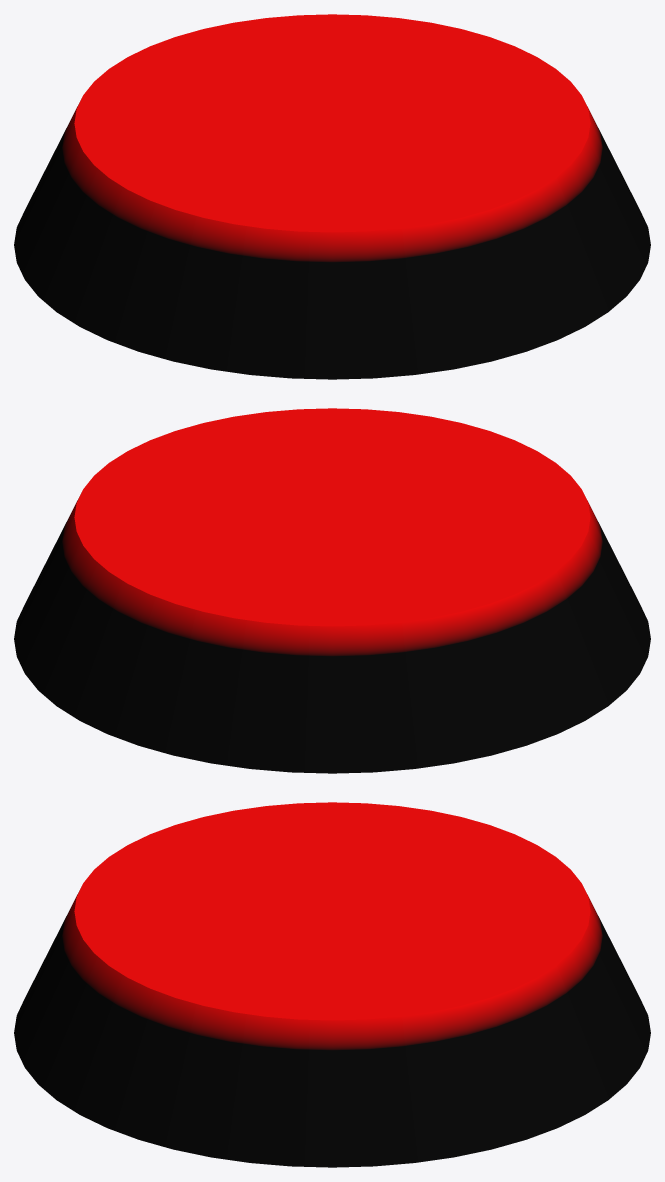
File: DogBowlWater.fbx
3 views of the same model, one above another, from view 1: azimuth 30°, elevation 25°; view 2: azimuth 150°, elevation 25°; view 3: azimuth 270°, elevation 25° (orthographic).
Parts seen in each view (by area): view 1: Cylinder.001; view 2: Cylinder.001; view 3: Cylinder.001.
Part boxes in pixels (<box>): Cylinder.001: <box>14,14,650,379</box>; Cylinder.001: <box>14,408,650,773</box>; Cylinder.001: <box>14,802,650,1167</box>.
Size of the model in its own units: 0.893 by 0.1881 by 0.893.
